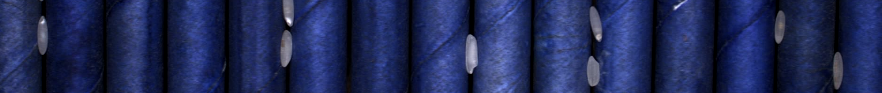broken_grain: (279, 1, 297, 25)
complete_grain: (586, 4, 605, 43), (34, 16, 51, 58), (583, 54, 602, 90), (279, 27, 293, 71), (831, 49, 846, 90), (770, 7, 786, 45)
milky_grain: (462, 31, 482, 78)
